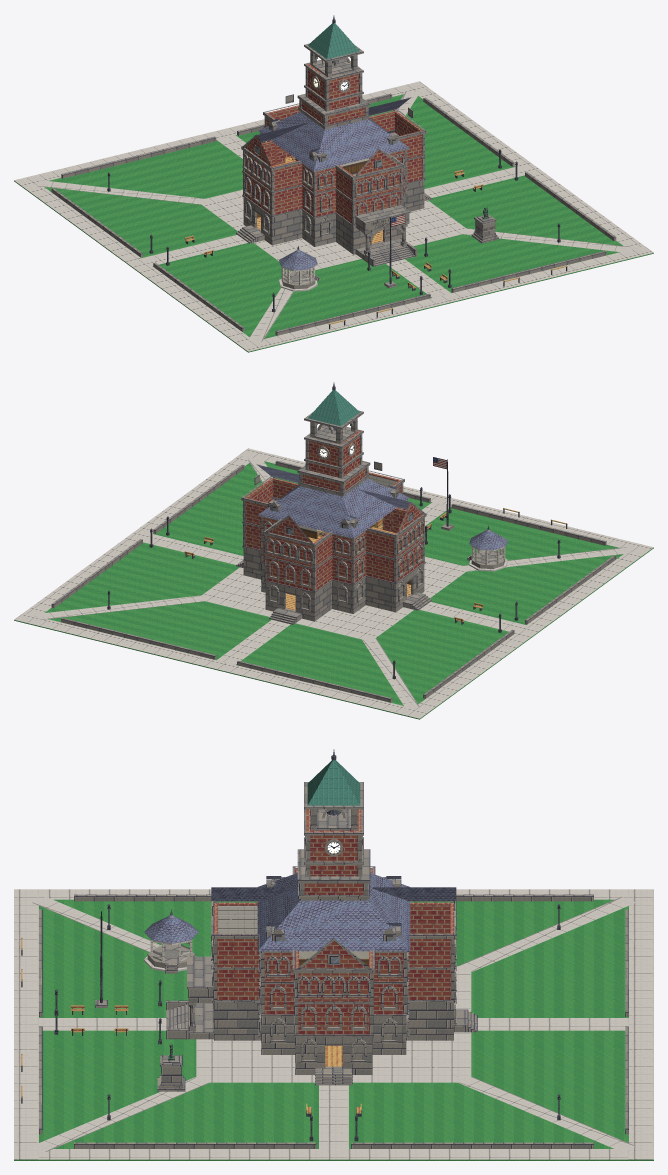
Rendered from courthouse-1894.glb.
The picture shows the model from 3 angles, top to bottom: view 1: azimuth 30°, elevation 25°; view 2: azimuth 150°, elevation 25°; view 3: azimuth 270°, elevation 25°; orthographic projection. The views are drawn at different scales.
Parts seen in each view (by area): view 1: lot_ground, structure, bandstand, memorial; view 2: lot_ground, structure, bandstand; view 3: lot_ground, structure, bandstand, memorial.
Boxes of the visible parts, x1=… form: lot_ground: x1=14, y1=81, x2=653, y2=352; structure: x1=236, y1=15, x2=431, y2=266; bandstand: x1=279, y1=246, x2=319, y2=291; memorial: x1=471, y1=207, x2=498, y2=243; lot_ground: x1=14, y1=448, x2=653, y2=719; structure: x1=236, y1=382, x2=431, y2=624; bandstand: x1=467, y1=525, x2=507, y2=571; lot_ground: x1=14, y1=889, x2=653, y2=1160; structure: x1=166, y1=749, x2=477, y2=1085; bandstand: x1=144, y1=909, x2=198, y2=973; memorial: x1=157, y1=1044, x2=185, y2=1091.
Size of what is drawn, in the model's own units: 79.46 by 38.02 by 79.46.
Materials: 16 (16 with a texture image).
